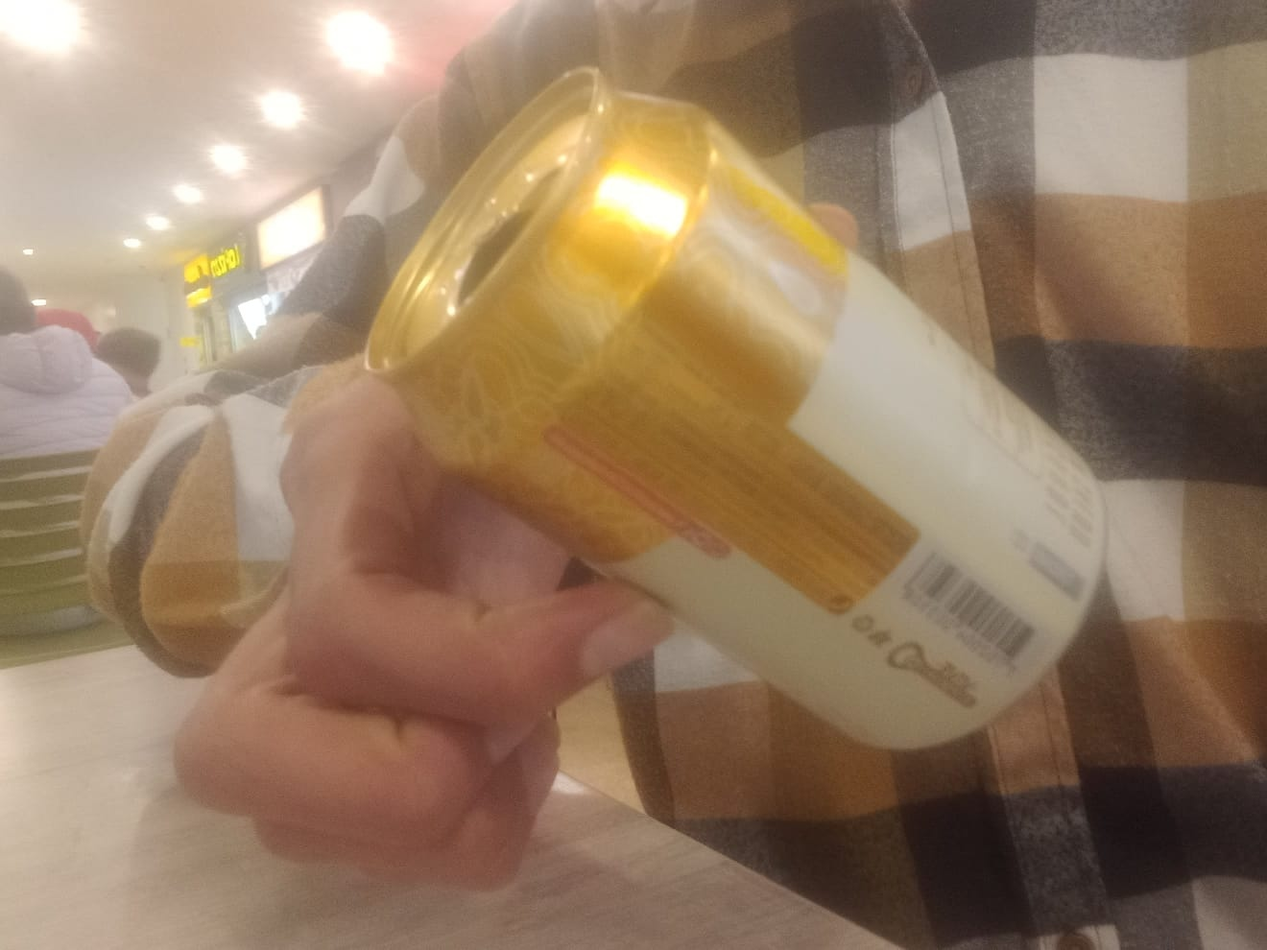Metal: (364, 69, 1109, 750)
